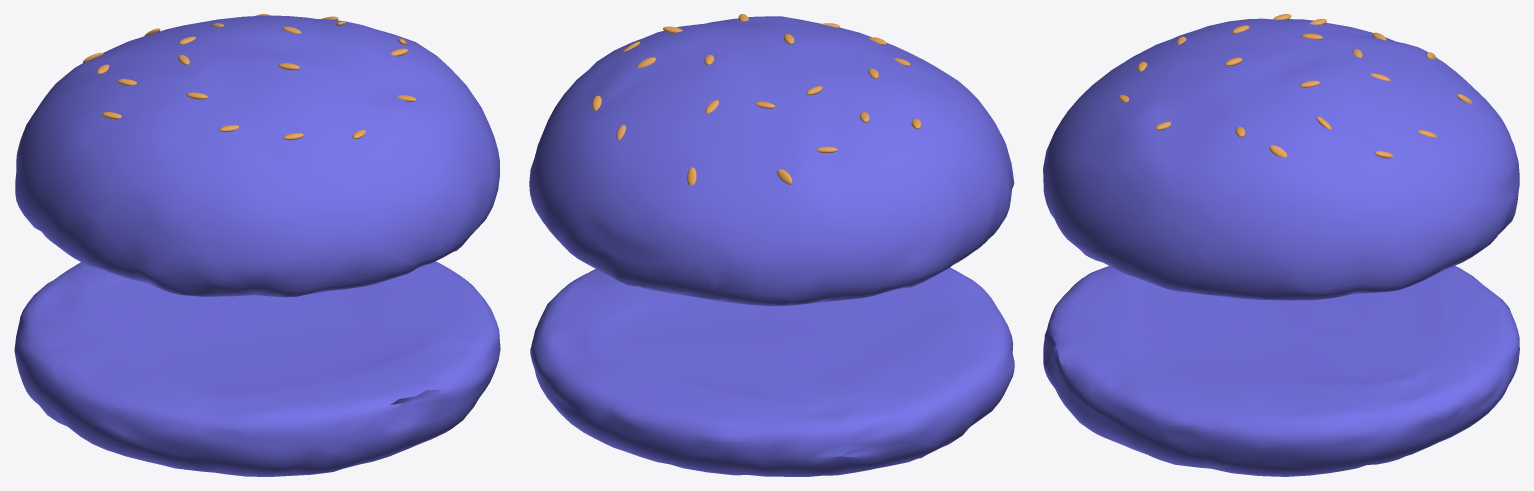
Rendered from Blue_Bread.fbx.
3 views of the same model, side by side, from view 1: azimuth 30°, elevation 25°; view 2: azimuth 150°, elevation 25°; view 3: azimuth 270°, elevation 25° (orthographic).
Visible parts, largest first — view 1: ust_ekmek, Alt_ekmek; view 2: ust_ekmek, Alt_ekmek; view 3: ust_ekmek, Alt_ekmek.
Part boxes in pixels (<box>): ust_ekmek: <box>15,14,499,297</box>; Alt_ekmek: <box>14,261,500,476</box>; ust_ekmek: <box>529,14,1014,306</box>; Alt_ekmek: <box>530,267,1014,476</box>; ust_ekmek: <box>1043,14,1519,300</box>; Alt_ekmek: <box>1043,266,1519,476</box>.
Size of the model in its own units: 20.37 by 15.92 by 20.37.
